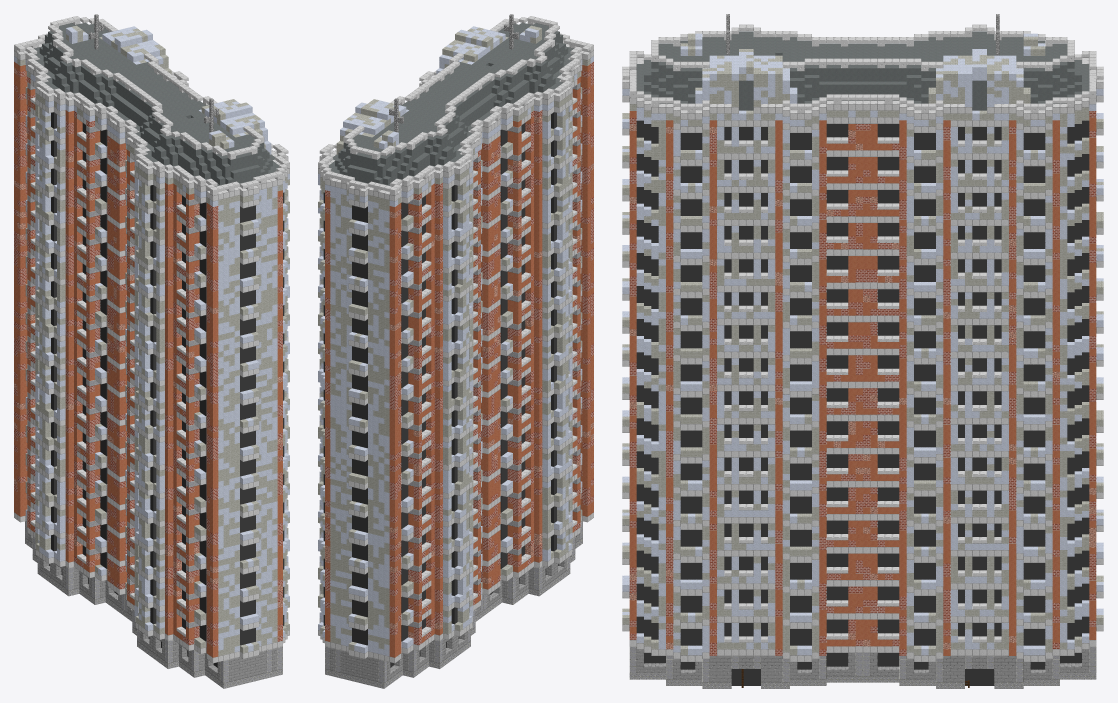
3 renders of one model, left to right at view 1: azimuth 30°, elevation 25°; view 2: azimuth 150°, elevation 25°; view 3: azimuth 270°, elevation 25°, orthographic. The views are drawn at different scales.
Visible parts, largest first — view 1: Hardened_Clay, Clay, Wool, Double_Stone_Slab, Bricks, Stained_Glass, Stained_Clay_02, Stone, Stone_Slab, Stone_Bricks, Stained_Clay, Cobblestone_Wall; view 2: Hardened_Clay, Clay, Wool, Double_Stone_Slab, Bricks, Stained_Glass, Stained_Clay_02, Stone, Stone_Slab, Stone_Bricks, Stained_Clay, Cobblestone_Wall; view 3: Stained_Glass, Clay, Wool, Double_Stone_Slab, Hardened_Clay, Bricks, Stone_Slab, Stained_Clay_02, Stone, Stained_Clay, Stone_Bricks.
Boxes of the visible parts, x1,y1,x2,y2 form: Hardened_Clay: (14, 62, 282, 657); Clay: (14, 26, 289, 652); Wool: (17, 25, 289, 656); Double_Stone_Slab: (14, 16, 289, 663); Bricks: (14, 70, 282, 646); Stained_Glass: (49, 112, 284, 667); Stained_Clay_02: (34, 22, 268, 186); Stone: (14, 67, 282, 688); Stone_Slab: (17, 17, 288, 637); Stone_Bricks: (28, 533, 277, 681); Stained_Clay: (36, 28, 278, 176); Cobblestone_Wall: (89, 14, 218, 132); Hardened_Clay: (325, 64, 593, 657); Clay: (318, 26, 593, 656); Wool: (318, 25, 590, 650); Double_Stone_Slab: (318, 16, 593, 663); Bricks: (325, 62, 593, 645); Stained_Glass: (323, 112, 558, 667); Stained_Clay_02: (339, 22, 573, 186); Stone: (325, 82, 593, 688); Stone_Slab: (319, 17, 590, 637); Stone_Bricks: (330, 533, 579, 681); Stained_Clay: (329, 28, 568, 176); Cobblestone_Wall: (389, 14, 518, 132); Stained_Glass: (636, 120, 1089, 685); Clay: (622, 33, 1103, 655); Wool: (622, 33, 1103, 655); Double_Stone_Slab: (622, 27, 1103, 661); Hardened_Clay: (629, 111, 1096, 655); Bricks: (629, 111, 1096, 655); Stone_Slab: (622, 24, 1103, 642); Stained_Clay_02: (636, 31, 1089, 94); Stone: (629, 124, 1096, 688); Stained_Clay: (651, 31, 1074, 110); Stone_Bricks: (636, 649, 1089, 682).
Size of the model in its own units: 0.2222 by 0.9899 by 0.6667.
12 materials, 12 textured.
